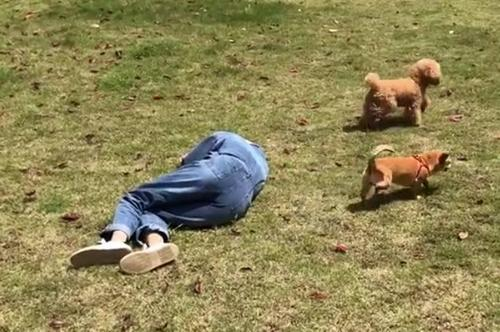fall: (63, 119, 277, 277)
